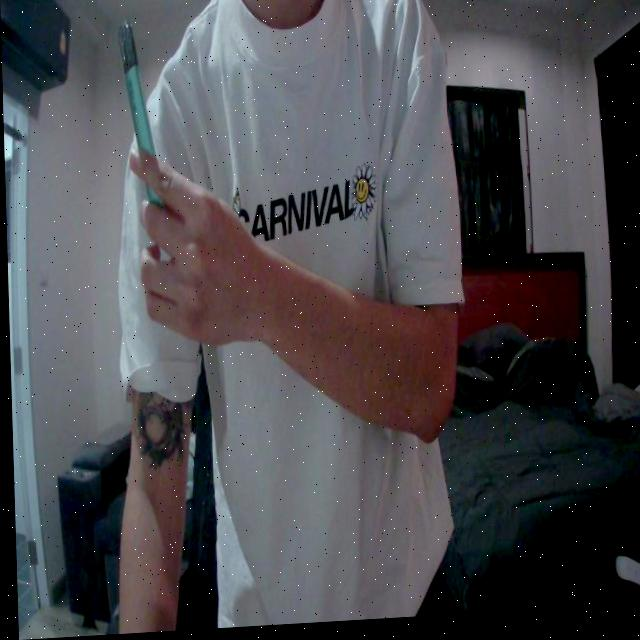vape: (116, 19, 155, 160)
